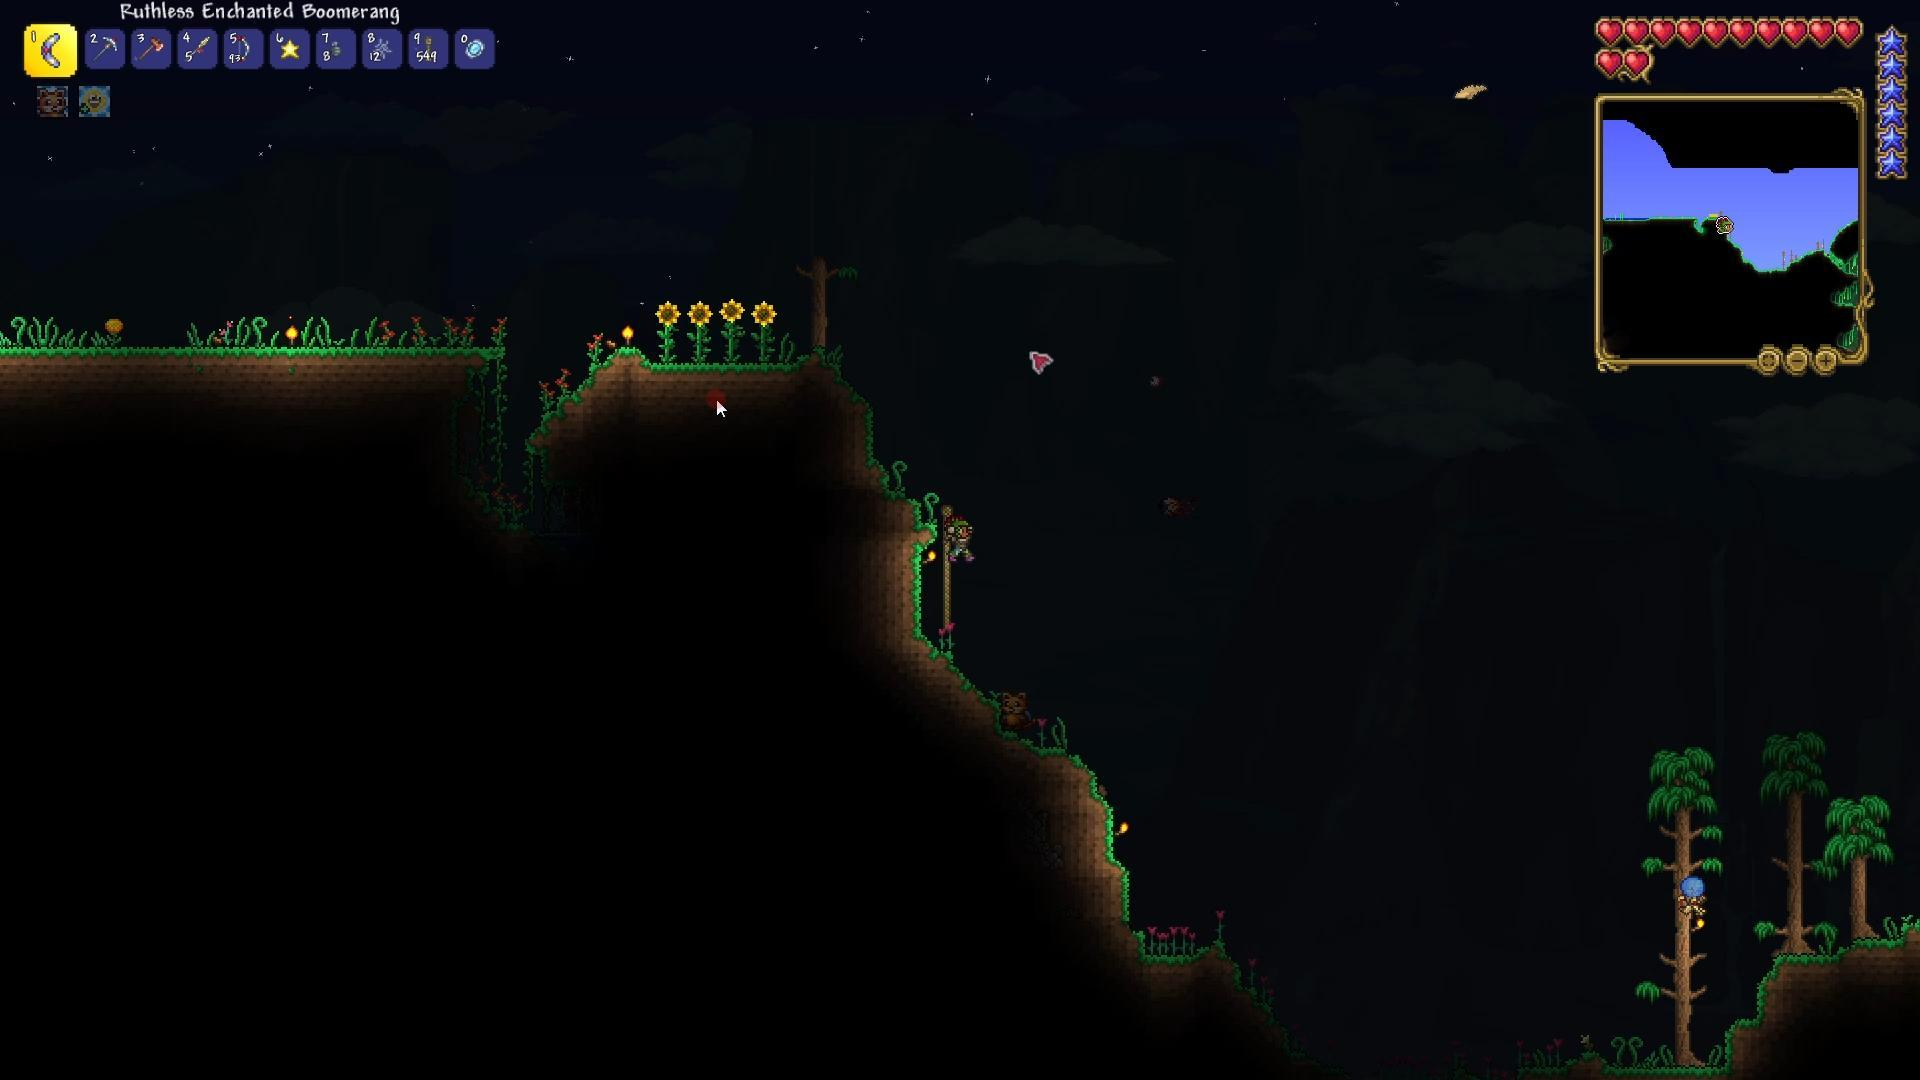dirt: (923, 661, 1112, 876), (1702, 916, 1920, 1075), (820, 364, 945, 534), (0, 335, 508, 372), (1516, 1023, 1763, 1080), (524, 347, 632, 465), (625, 347, 818, 386), (1134, 920, 1232, 975), (894, 542, 927, 637), (1106, 855, 1135, 923)
